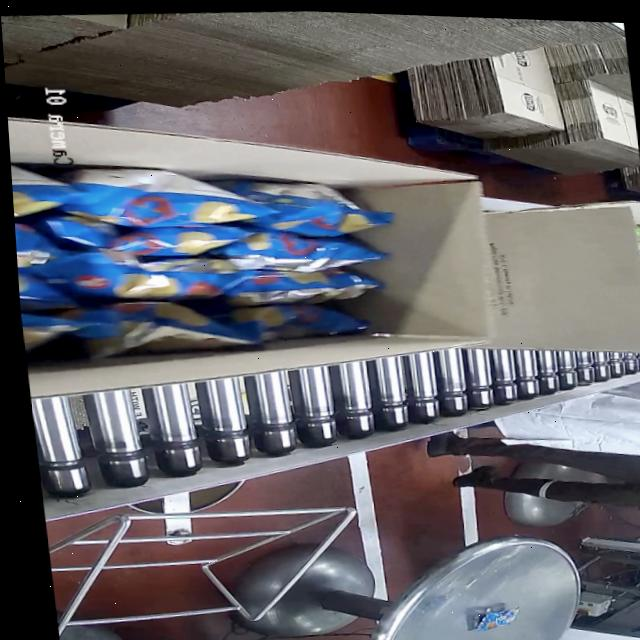PAPRIKA: (9, 129, 387, 380)
